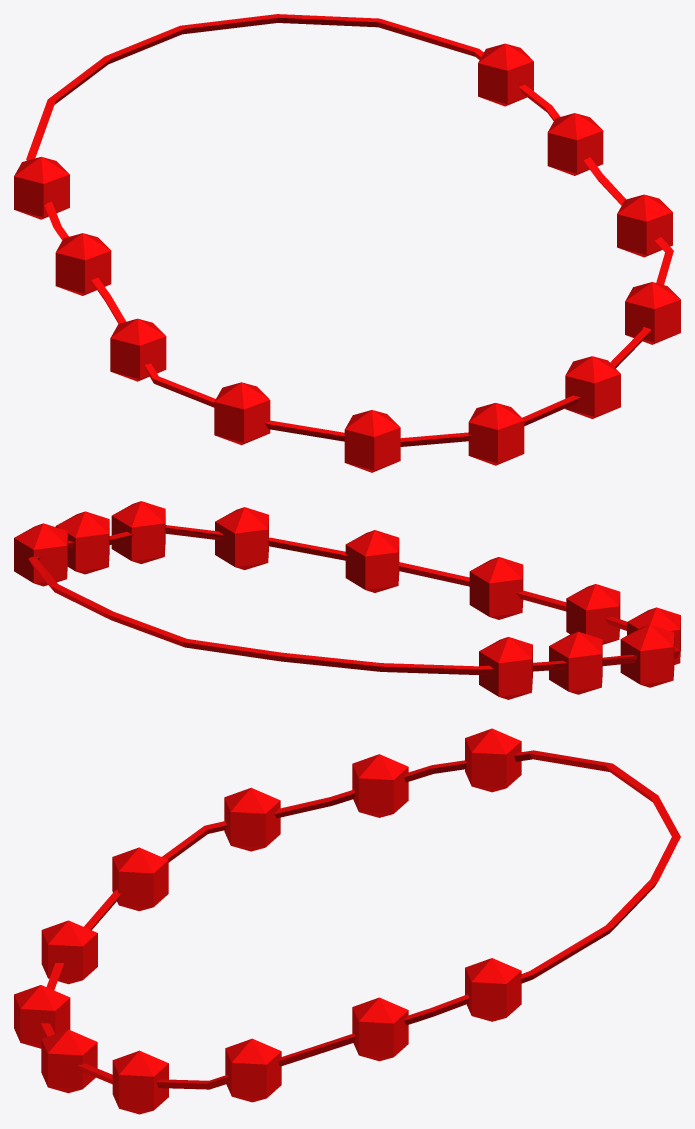
The model's file is neck_necklace_pearl_01.glb.
3 views of the same model, one above another, from view 1: azimuth 30°, elevation 25°; view 2: azimuth 150°, elevation 25°; view 3: azimuth 270°, elevation 25° (orthographic).
Visible parts, largest first — view 1: neck_necklace_pearl_01; view 2: neck_necklace_pearl_01; view 3: neck_necklace_pearl_01.
Boxes of the visible parts, box(x1,y1,x2,y2) form: neck_necklace_pearl_01: box(14, 14, 680, 472); neck_necklace_pearl_01: box(14, 501, 680, 699); neck_necklace_pearl_01: box(14, 728, 680, 1114).
Bounding box in the file's own units: 0.1989 × 0.0716 × 0.2043.
1 material, 1 textured.
